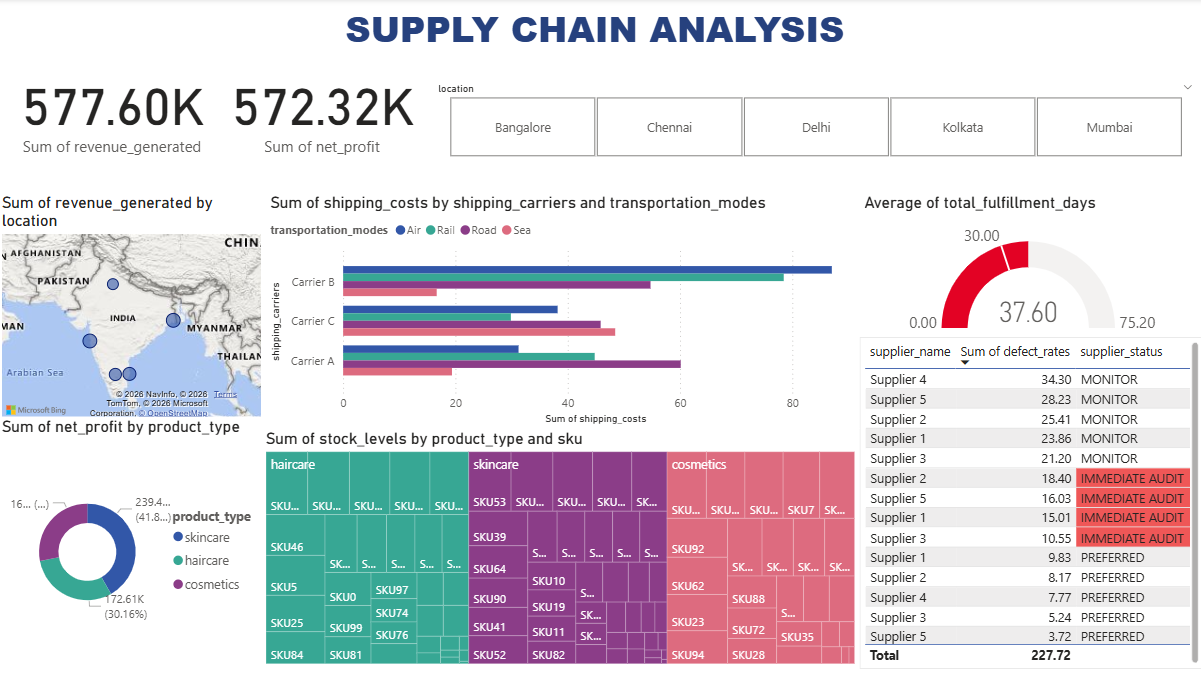

Layout of this report page (visuals, bound fields, positions):
{"tool":"powerbi","page":{"name":"Page 1","canvas":[1280,720],"ordinal":0},"visuals":[{"type":"card","fields":{"Values":["Sum(supply_chain_db vw_executive_summary.revenue_generated)"]},"box":[9.5,62,224.3,112.9],"z":0},{"type":"card","fields":{"Values":["Sum(supply_chain_db vw_executive_summary.net_profit)"]},"box":[233.8,62,221.1,112.9],"z":1000},{"type":"map","fields":{"Category":["supply_chain_db vw_executive_summary.location"],"Size":["Sum(supply_chain_db vw_executive_summary.revenue_generated)"]},"box":[0,206.8,284.7,249.7],"z":2000},{"type":"donutChart","fields":{"Category":["supply_chain_db vw_executive_summary.product_type"],"Y":["Sum(supply_chain_db vw_executive_summary.net_profit)"]},"box":[0,443.8,279.9,267.2],"z":3000},{"type":"tableEx","fields":{"Values":["supply_chain_db vw_supplier_risk.supplier_name","Sum(supply_chain_db vw_supplier_risk.defect_rates)","supply_chain_db vw_supplier_risk.supplier_status"]},"box":[914.6,359.5,365.8,351.5],"z":4000},{"type":"slicer","fields":{"Values":["supply_chain_db vw_executive_summary.location"]},"box":[454.9,84.3,825.5,90.7],"z":5000},{"type":"gauge","fields":{"Y":["Avg(supply_chain_db vw_logistics_performance.total_fulfillment_days)"]},"box":[914.6,206.8,365.8,152.7],"z":6000},{"type":"treemap","fields":{"Values":["Sum(supply_chain_db vw_inventory_status.stock_levels)"],"Details":["supply_chain_db vw_inventory_status.sku"],"Group":["supply_chain_db vw_inventory_status.product_type"]},"box":[279.9,456.5,634.7,254.5],"z":7000},{"type":"clusteredBarChart","fields":{"Category":["supply_chain_db vw_logistics_performance.shipping_carriers"],"Y":["Sum(supply_chain_db vw_logistics_performance.shipping_costs)"],"Series":["supply_chain_db vw_logistics_performance.transportation_modes"]},"box":[284.7,206.8,629.9,249.7],"z":8000},{"type":"textbox","box":[0,0,1280.4,84.3],"z":9000}]}

Visuals, with their boxes in screenshot pixels (x1, y1, x2, y2), scaled from the page's 1280x720 canvas onto the 1201x676 screenshot:
card - Sum(supply_chain_db vw_executive_summary.revenue_generated): (left=9, top=58, right=219, bottom=164)
card - Sum(supply_chain_db vw_executive_summary.net_profit): (left=219, top=58, right=427, bottom=164)
map - supply_chain_db vw_executive_summary.location x Sum(supply_chain_db vw_executive_summary.revenue_generated): (left=0, top=194, right=267, bottom=429)
donutChart - supply_chain_db vw_executive_summary.product_type x Sum(supply_chain_db vw_executive_summary.net_profit): (left=0, top=417, right=263, bottom=668)
tableEx - supply_chain_db vw_supplier_risk.supplier_name x Sum(supply_chain_db vw_supplier_risk.defect_rates): (left=858, top=338, right=1200, bottom=668)
slicer - supply_chain_db vw_executive_summary.location: (left=427, top=79, right=1200, bottom=164)
gauge - Avg(supply_chain_db vw_logistics_performance.total_fulfillment_days): (left=858, top=194, right=1200, bottom=338)
treemap - Sum(supply_chain_db vw_inventory_status.stock_levels) x supply_chain_db vw_inventory_status.sku: (left=263, top=429, right=858, bottom=668)
clusteredBarChart - supply_chain_db vw_logistics_performance.shipping_carriers x Sum(supply_chain_db vw_logistics_performance.shipping_costs): (left=267, top=194, right=858, bottom=429)
textbox: (left=0, top=0, right=1200, bottom=79)
